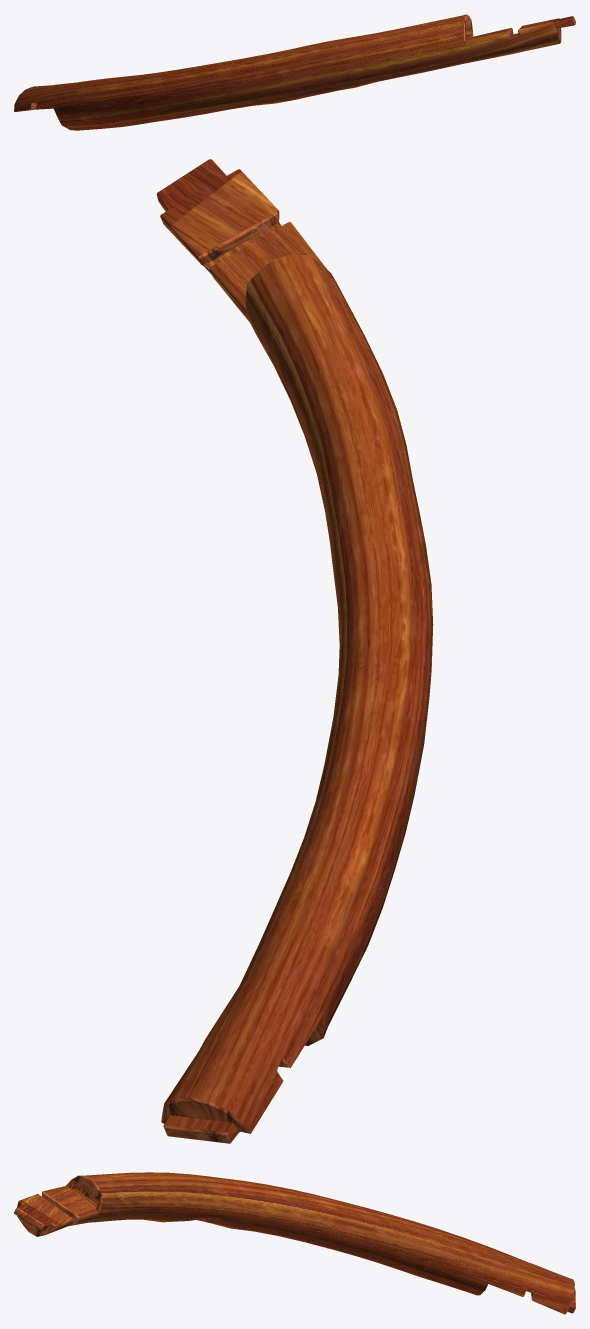
The model's file is quanyi_J_D_yiquan04.FBX.
3 renders of one model, top to bottom at view 1: azimuth 30°, elevation 25°; view 2: azimuth 150°, elevation 25°; view 3: azimuth 270°, elevation 25°, orthographic. The views are drawn at different scales.
Parts seen in each view (by area): view 1: quanyi_J_D_yiquan04; view 2: quanyi_J_D_yiquan04; view 3: quanyi_J_D_yiquan04.
Part boxes in pixels (<box>): quanyi_J_D_yiquan04: <box>14,14,575,130</box>; quanyi_J_D_yiquan04: <box>157,159,433,1143</box>; quanyi_J_D_yiquan04: <box>14,1172,575,1314</box>.
Size of the model in its own units: 21.72 by 15.5 by 34.18.
2 materials, 2 textured.
